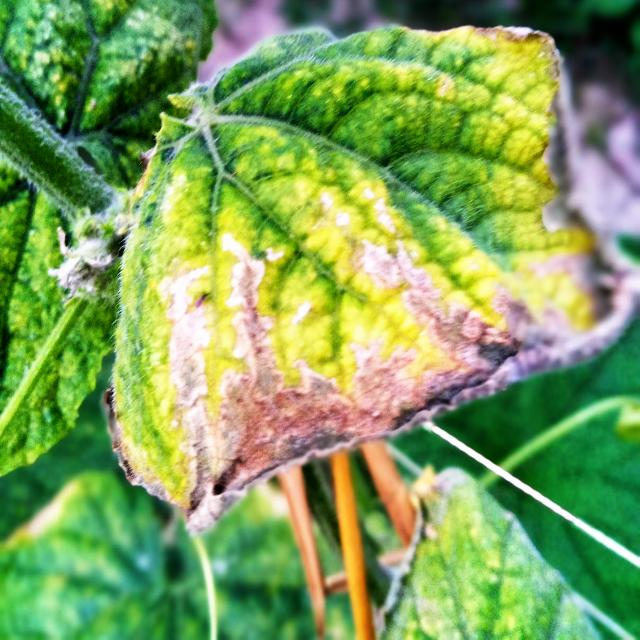Gummy-Stem-Blight: (103, 187, 606, 538)
